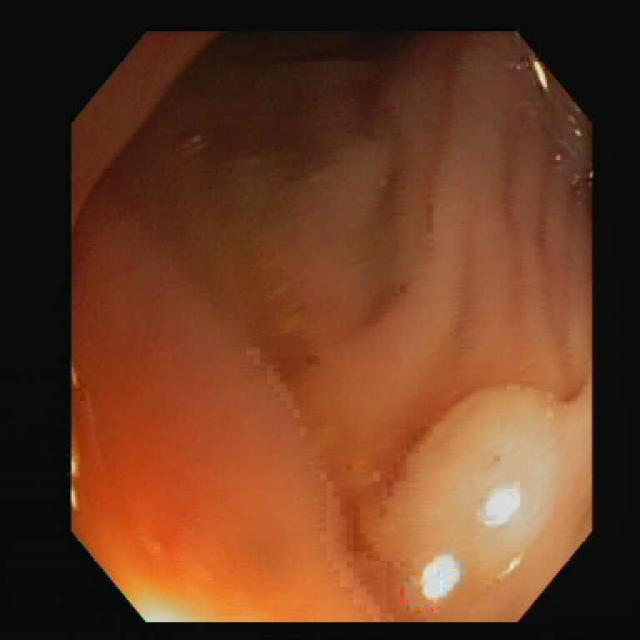tumor: (382, 384, 557, 564)
